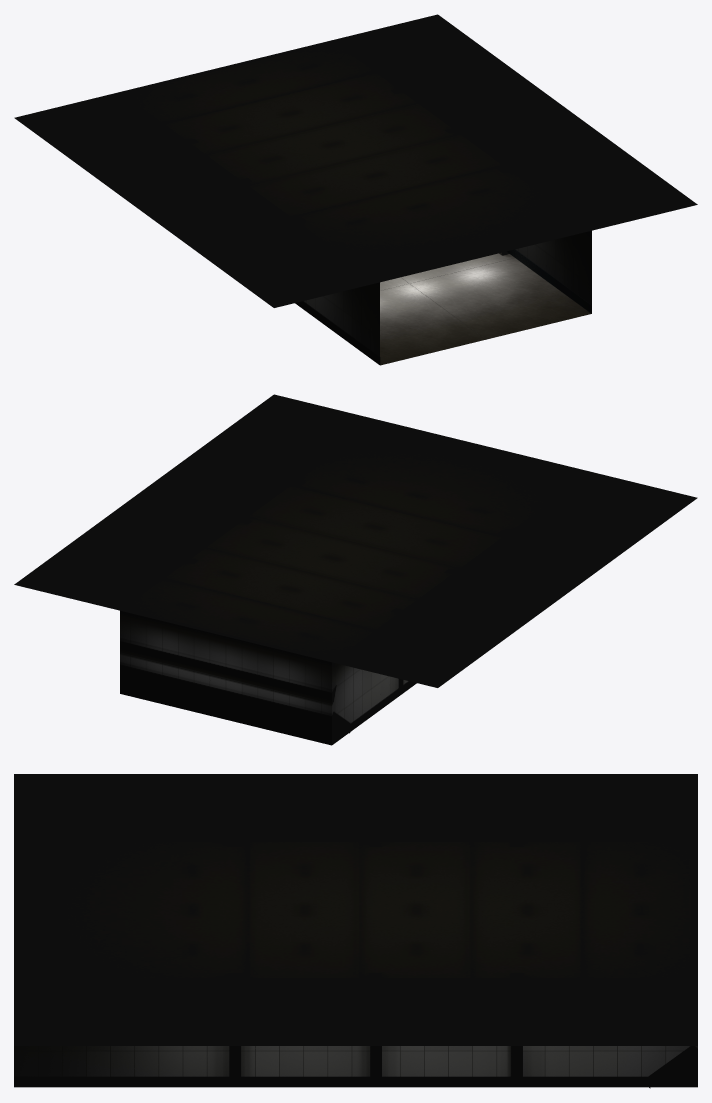
Rendered from env_indoor_01.glb.
3 views of the same model, one above another, from view 1: azimuth 30°, elevation 25°; view 2: azimuth 150°, elevation 25°; view 3: azimuth 270°, elevation 25° (orthographic). The views are drawn at different scales.
Visible parts, largest first — view 1: ceiling, floor, wall_l, wall_r, details; view 2: ceiling, wall_back, wall_l; view 3: ceiling, wall_r.
Part boxes in pixels (x1,y1,x2,y2): ceiling: [14, 14, 697, 307]; floor: [380, 251, 591, 365]; wall_l: [295, 282, 379, 364]; wall_r: [515, 230, 591, 313]; details: [380, 249, 591, 364]; ceiling: [14, 394, 697, 687]; wall_back: [120, 610, 331, 745]; wall_l: [332, 662, 416, 744]; ceiling: [14, 774, 697, 1045]; wall_r: [14, 1046, 697, 1087].
Bounding box in the file's own units: 32 × 6.08 × 34.
Materials: 7 (6 with a texture image).
